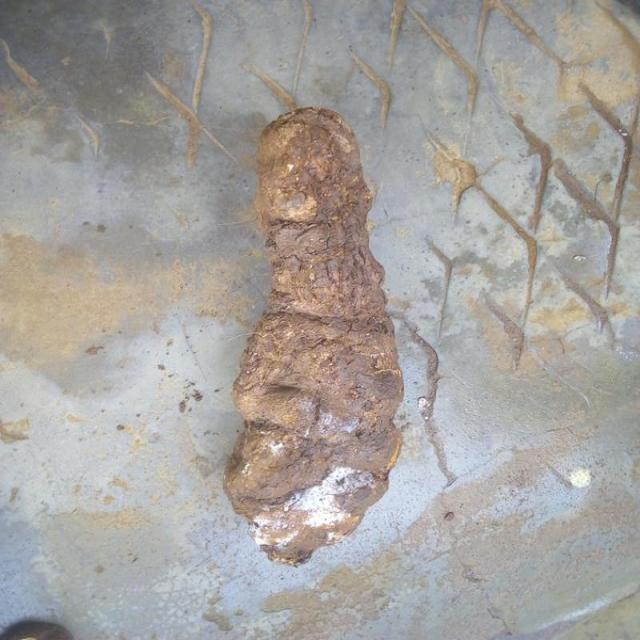cassava leaf: (222, 104, 406, 566)
